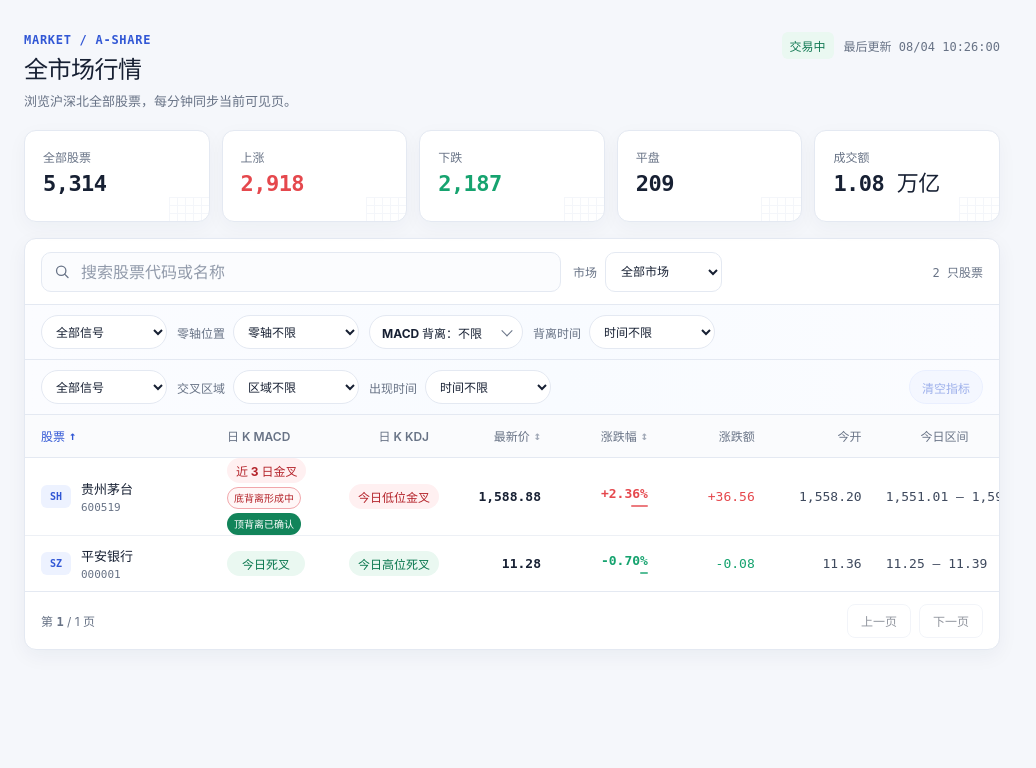
Test: 支持组合 MACD 背离筛选
Check: the row "贵州茅台" is shown, box [25,457,999,535]
Click the button "MACD 背离：不限": (446, 332) [369,315,523,349]
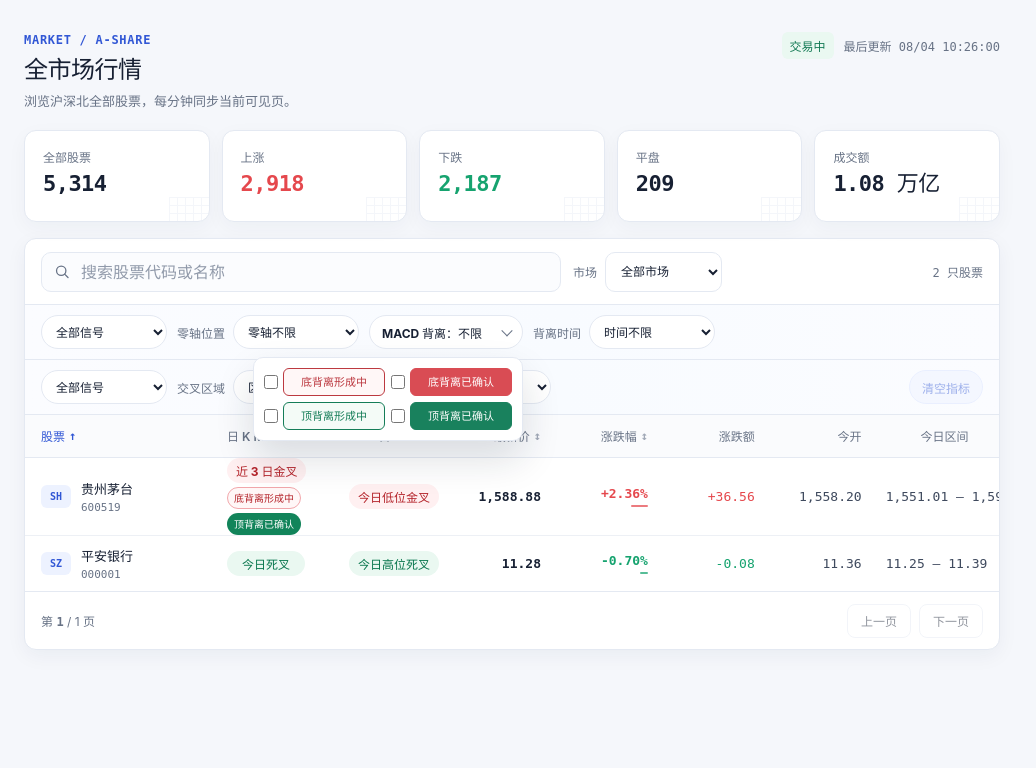
Click the checkbox labelled "底背离形成中": (271, 382) [264,375,278,389]
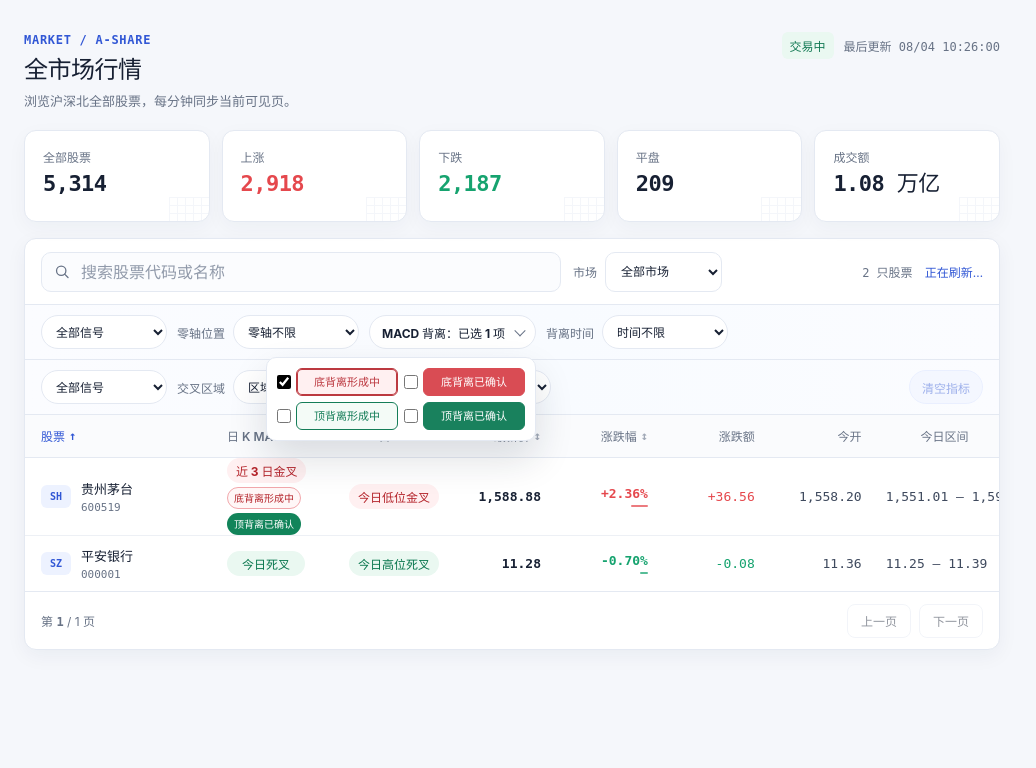
Click the checkbox labelled "顶背离已确认": (411, 416) [404,409,418,423]
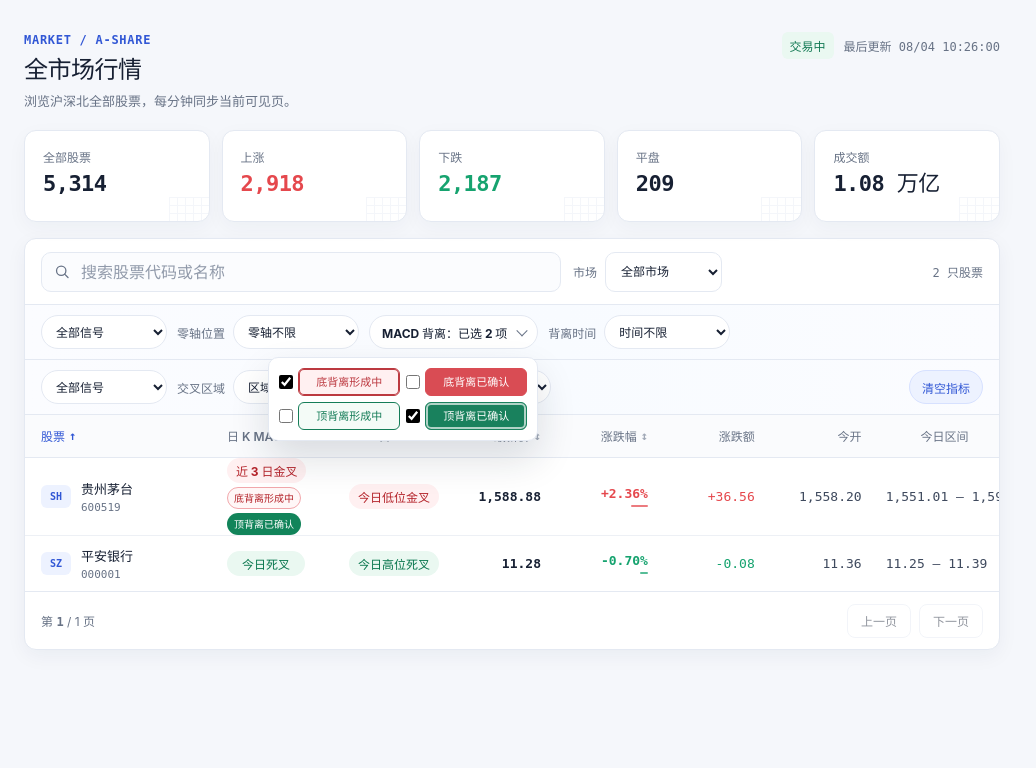
Check: the button "MACD 背离：已选 2 项" is shown, box [369,315,538,349]
